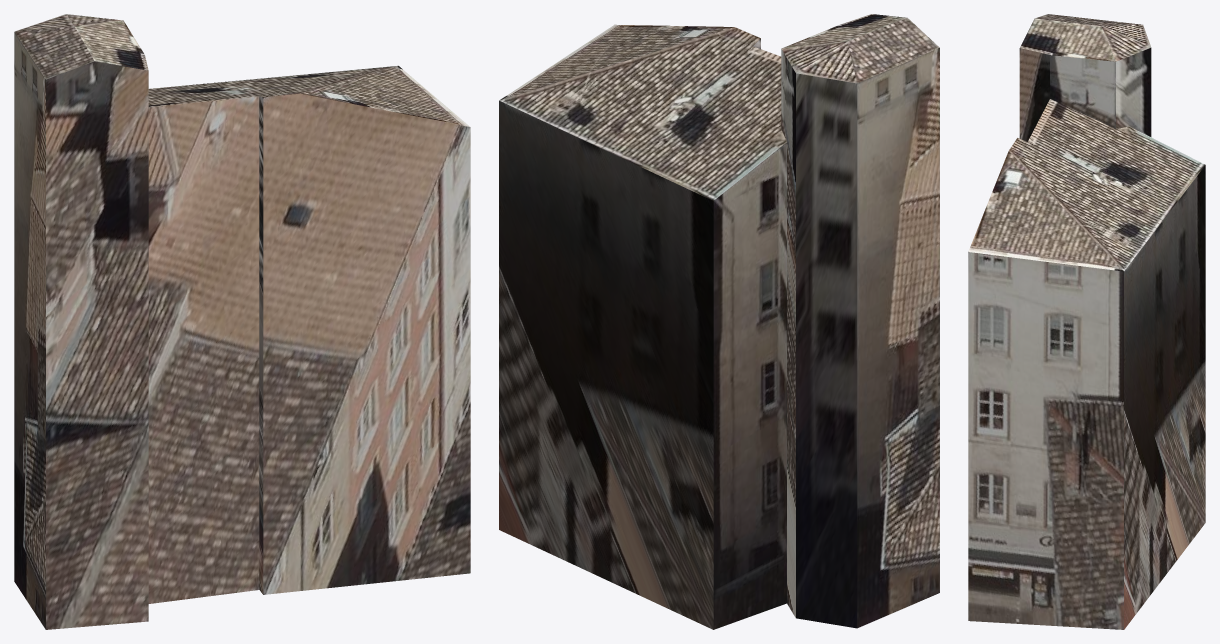
3 renders of one model, left to right at view 1: azimuth 30°, elevation 25°; view 2: azimuth 150°, elevation 25°; view 3: azimuth 270°, elevation 25°, orthographic. The views are drawn at different scales.
Visible parts, largest first — view 1: Z_UP; view 2: Z_UP; view 3: Z_UP.
Part boxes in pixels (left/top/right/bottom): Z_UP: left=14, top=14, right=470, bottom=629; Z_UP: left=499, top=14, right=939, bottom=629; Z_UP: left=968, top=14, right=1205, bottom=629.
Size of the model in its own units: 17.07 by 23.12 by 10.64.
Materials: 2 (1 with a texture image).
